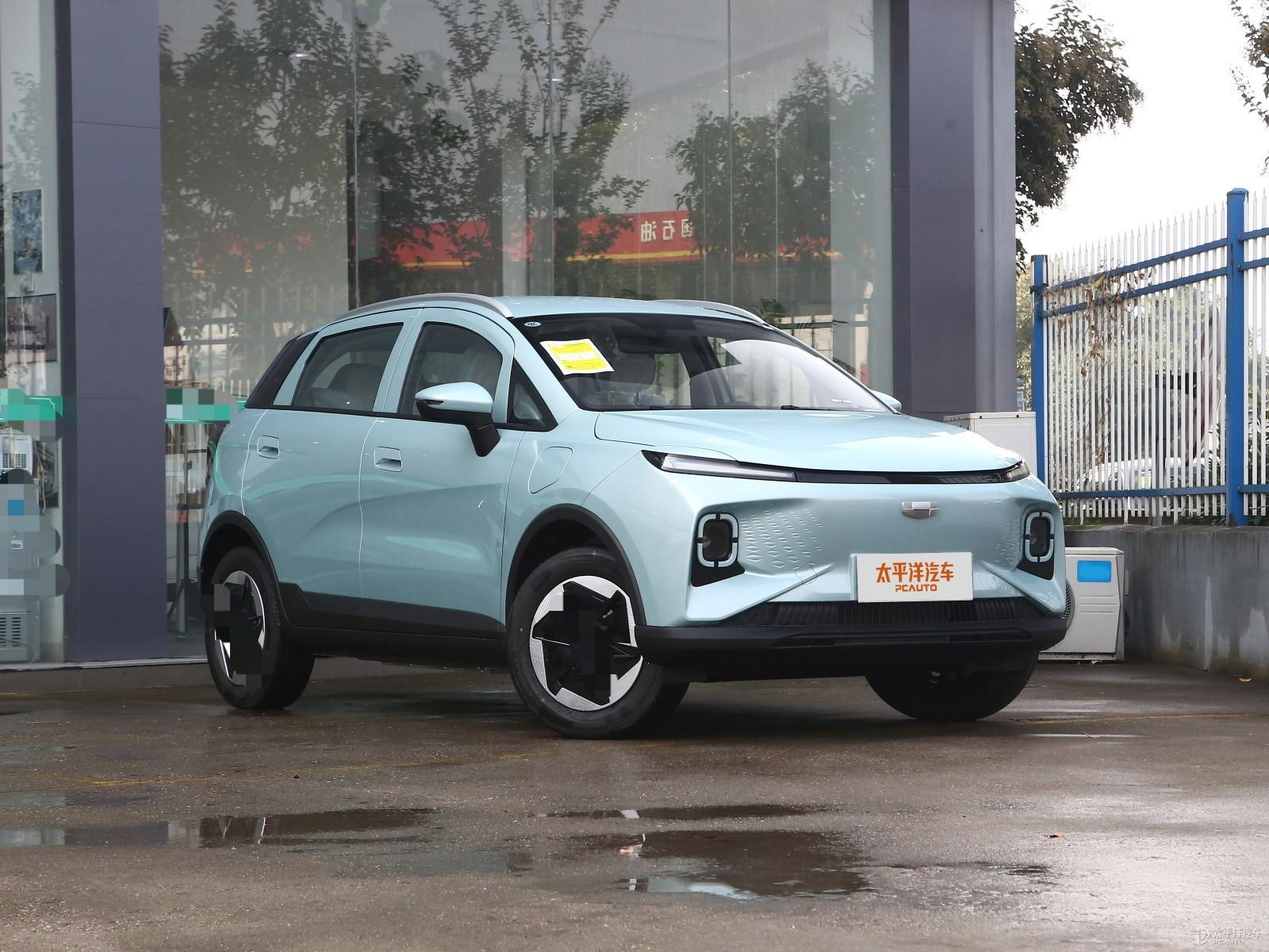GEOMETRY: (903, 502, 939, 517)
